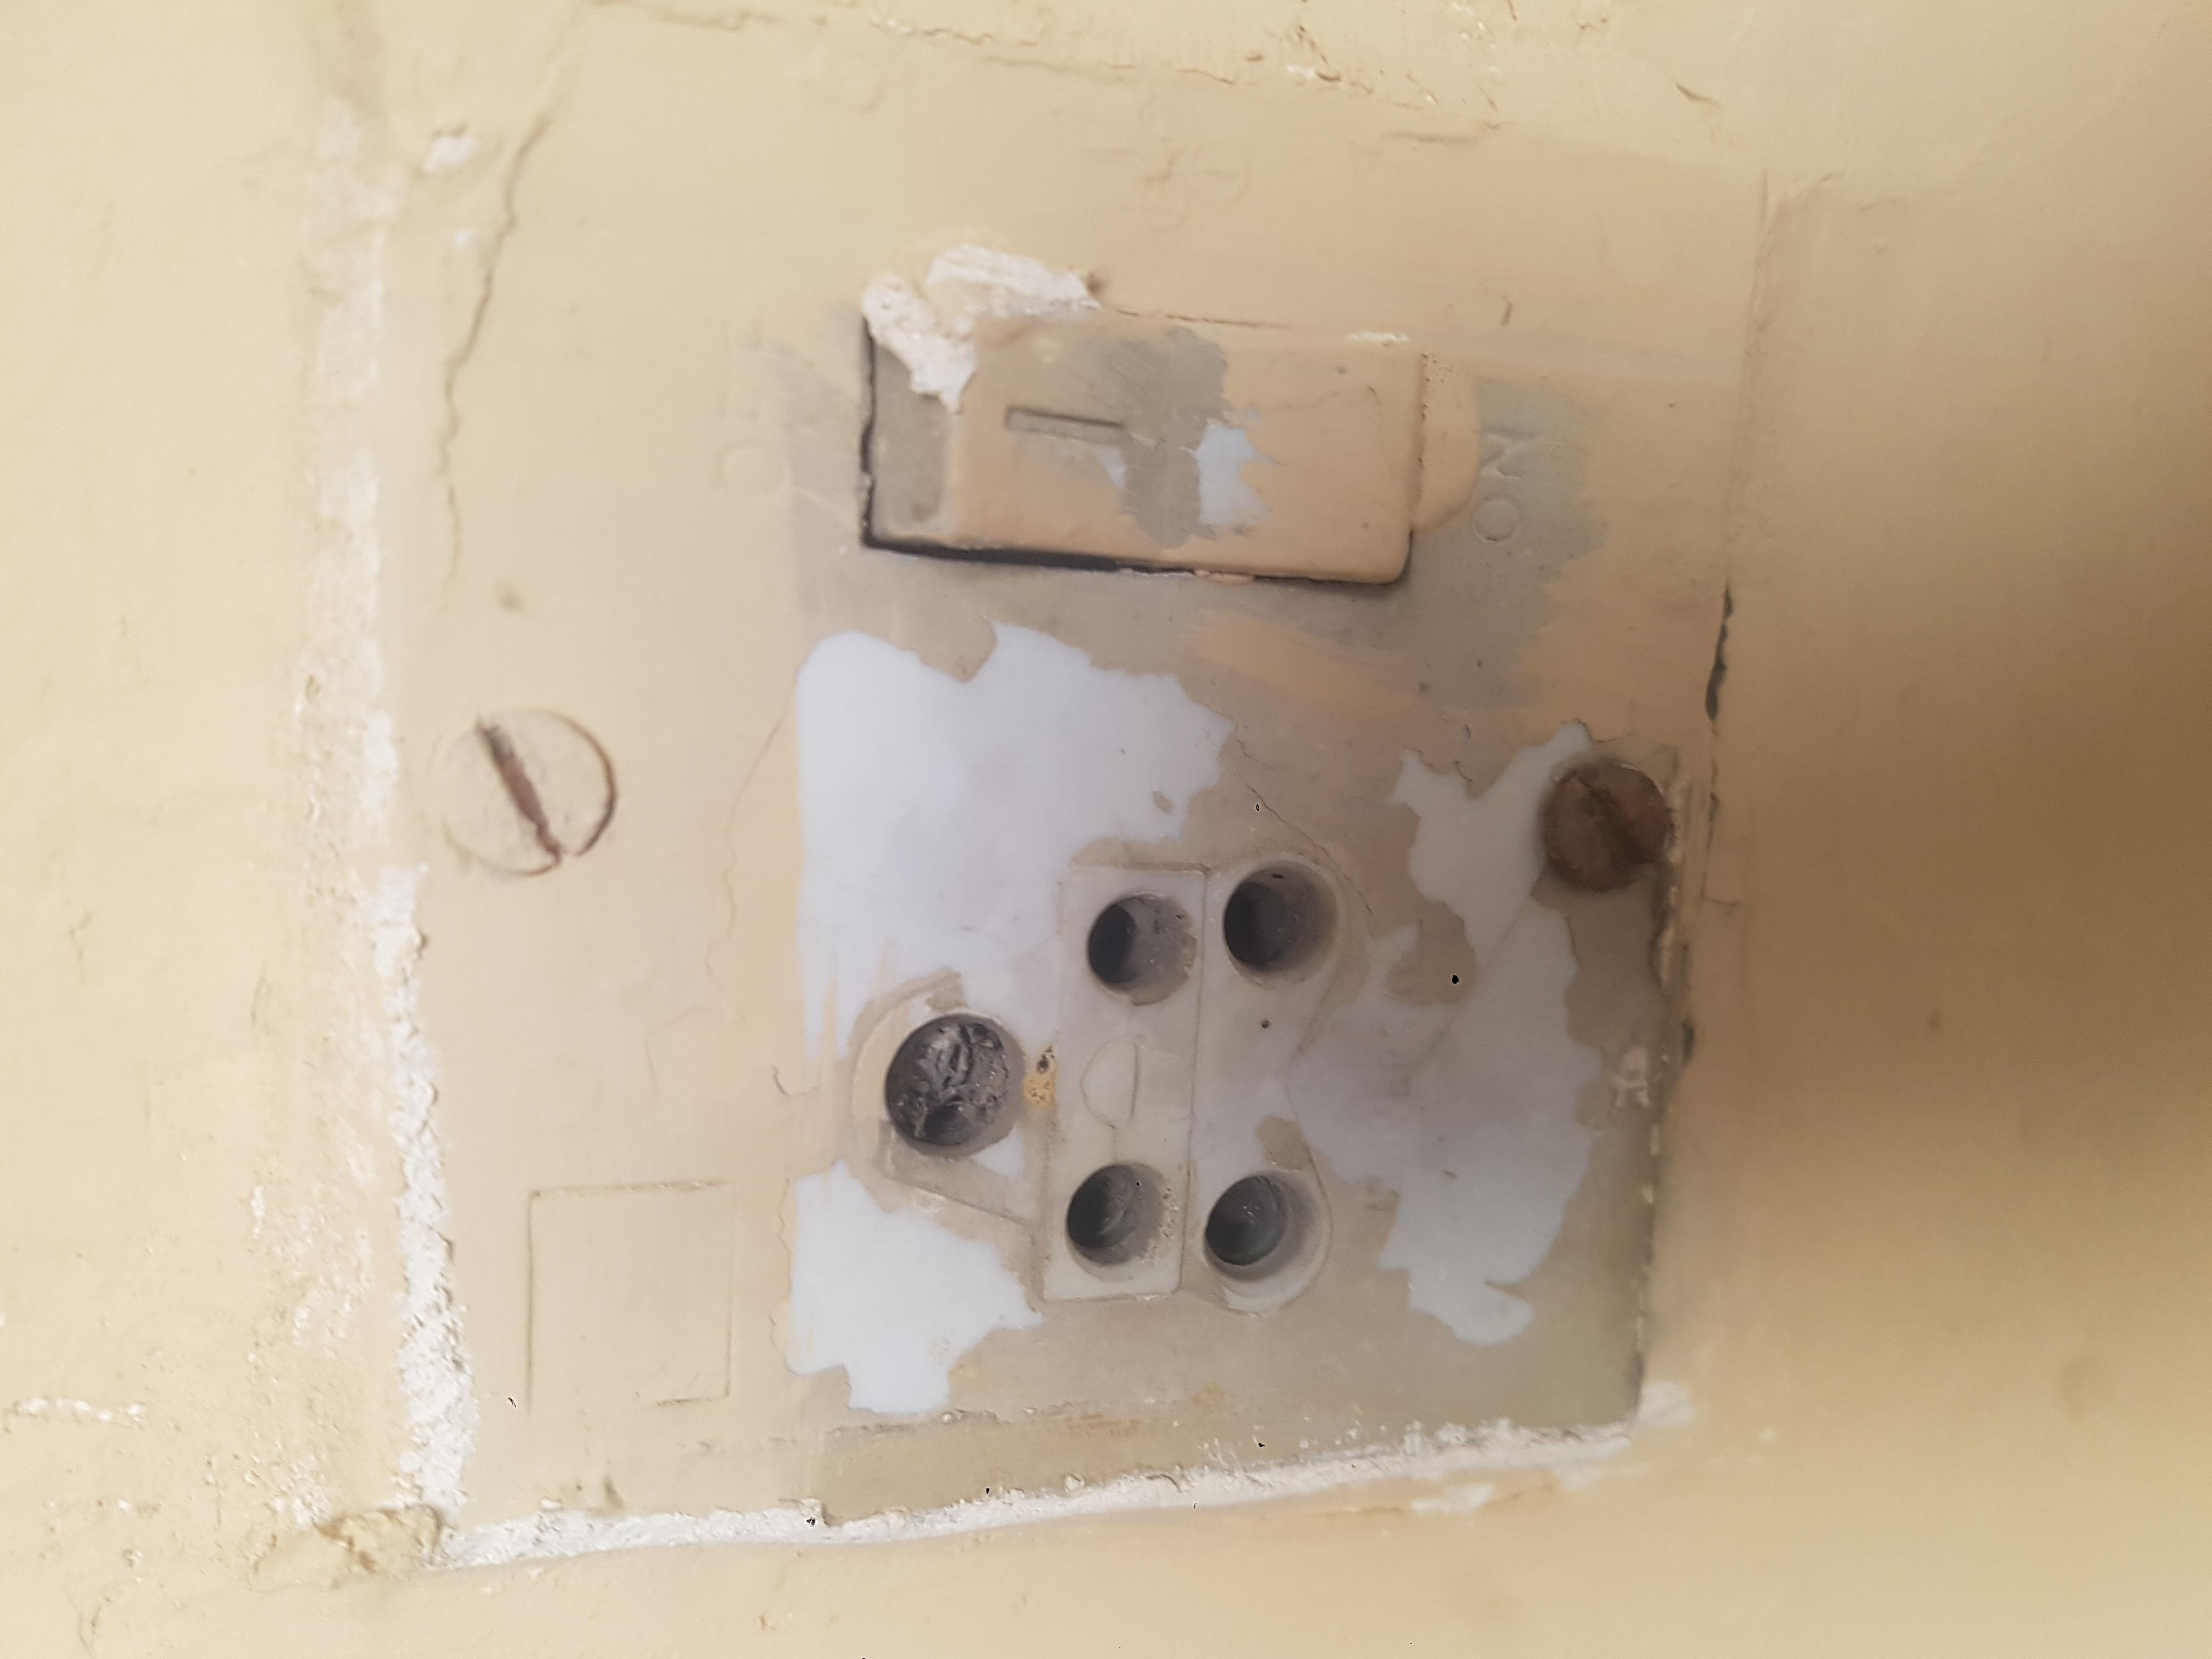electronic: (1345, 601, 1982, 1133)
